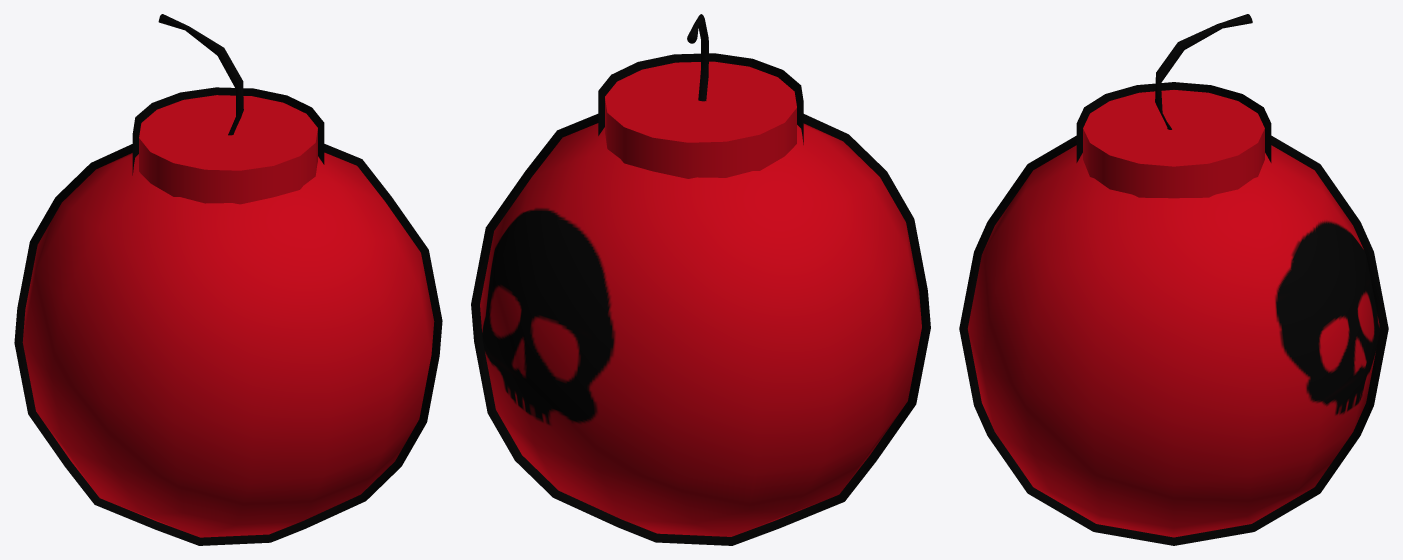
File: Cherry_Bombs.glb
The picture shows the model from 3 angles, left to right: view 1: azimuth 30°, elevation 25°; view 2: azimuth 150°, elevation 25°; view 3: azimuth 270°, elevation 25°; orthographic projection. The views are drawn at different scales.
Parts seen in each view (by area): view 1: Cylinder; view 2: Cylinder; view 3: Cylinder.
Part boxes in pixels (<box>): Cylinder: <box>14,14,442,545</box>; Cylinder: <box>471,14,930,545</box>; Cylinder: <box>959,14,1388,545</box>.
Bounding box in the file's own units: 1.75 × 2.22 × 1.75.
1 material, 1 textured.
